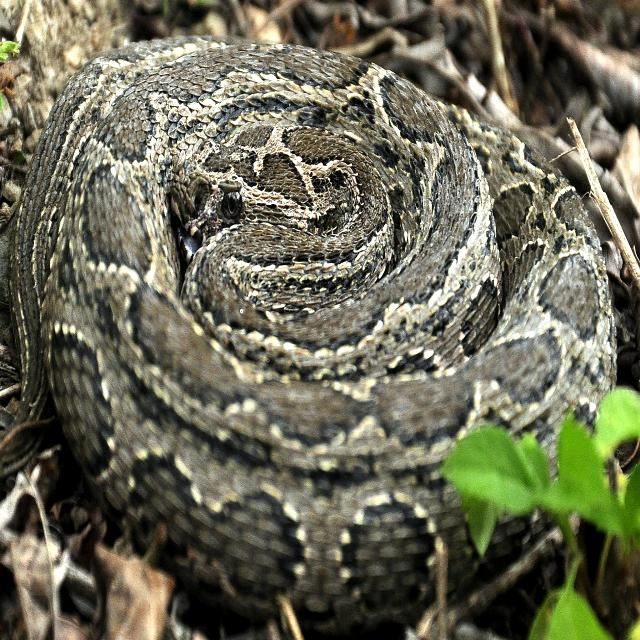Daboia siamensis: (11, 38, 615, 634)
snake: (11, 38, 615, 634)
